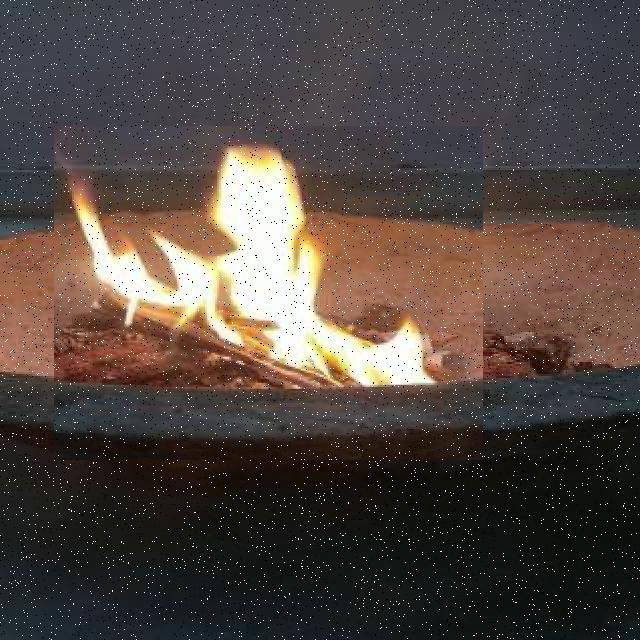fire: (54, 126, 483, 460)
